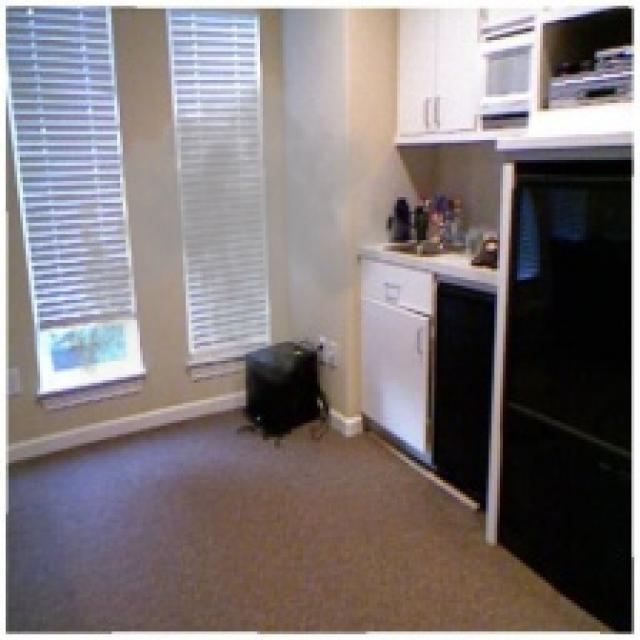Smoke: (54, 60, 409, 437)
